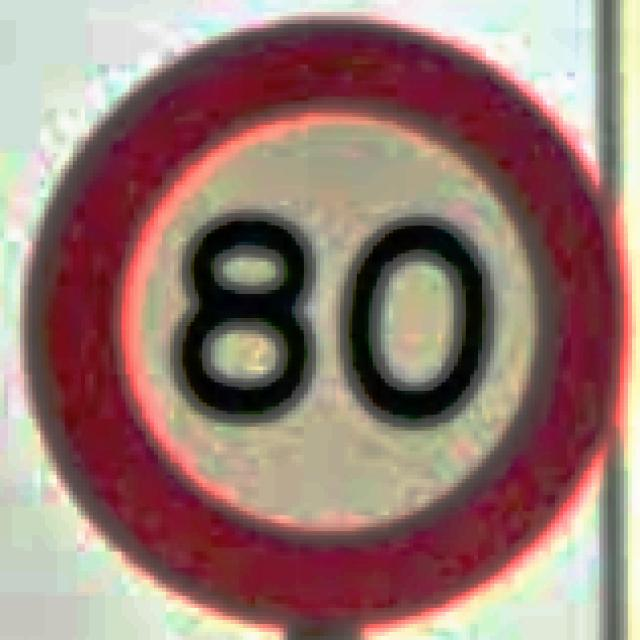max80: (24, 16, 628, 636)
